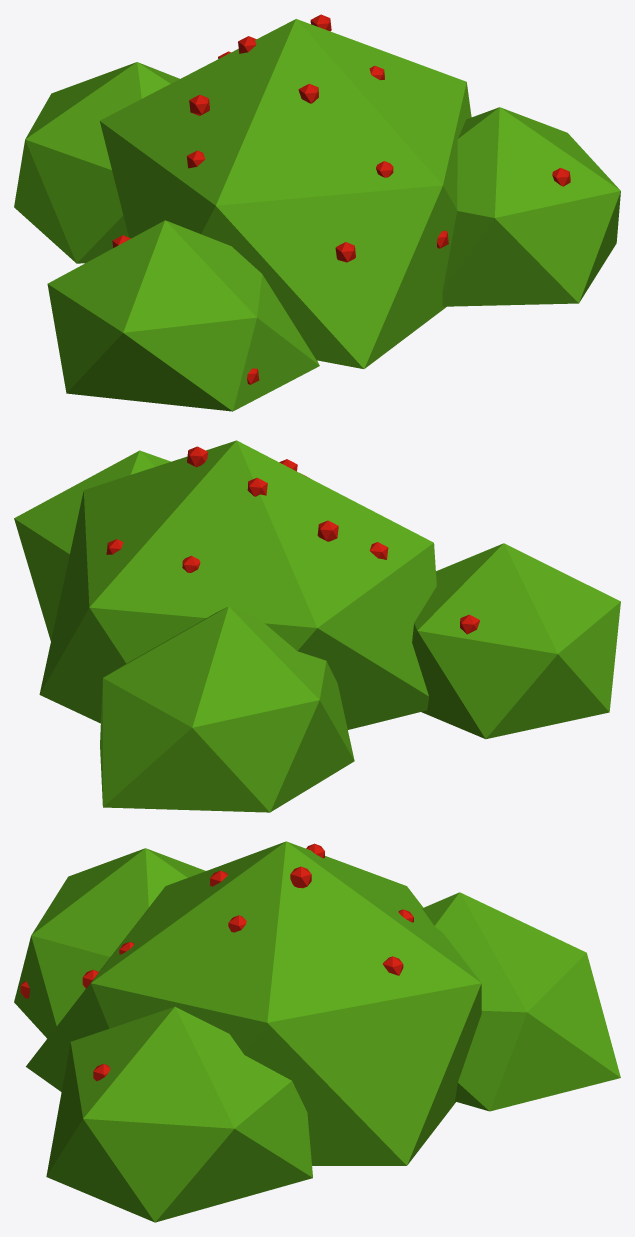
The model's file is Bush_1.fbx.
3 renders of one model, top to bottom at view 1: azimuth 30°, elevation 25°; view 2: azimuth 150°, elevation 25°; view 3: azimuth 270°, elevation 25°, orthographic. The views are drawn at different scales.
Parts seen in each view (by area): view 1: Bush; view 2: Bush; view 3: Bush.
Part boxes in pixels (x1,y1,x2,y2): Bush: [14, 14, 620, 411]; Bush: [14, 440, 620, 812]; Bush: [14, 841, 620, 1222].
Size of the model in its own units: 5.42 by 2.45 by 4.91.
